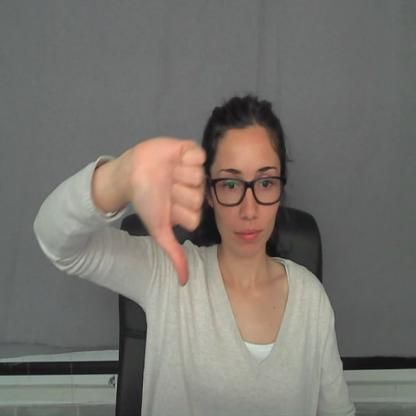thumbs-down: (133, 139, 218, 286)
